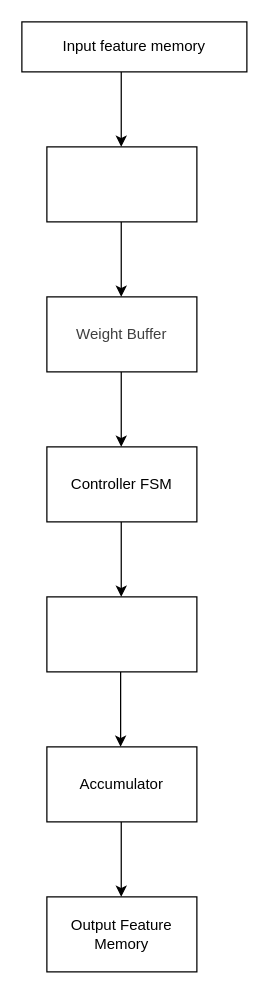
The diagram is 269 pixels wide and 994 high, and some of its shapes have lost their labels. Here are the shapes that lost their labels. From the top down, the centre of each, then its label:
At (121,184): "Input Buffer".
At (121,634): "Processing Element 2x2 to NxN".
